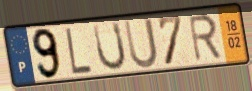7: (157, 14, 185, 68)
9: (30, 26, 64, 80)
L: (63, 25, 94, 76)
R: (187, 13, 224, 64)
U: (122, 16, 160, 71), (91, 20, 128, 73)
